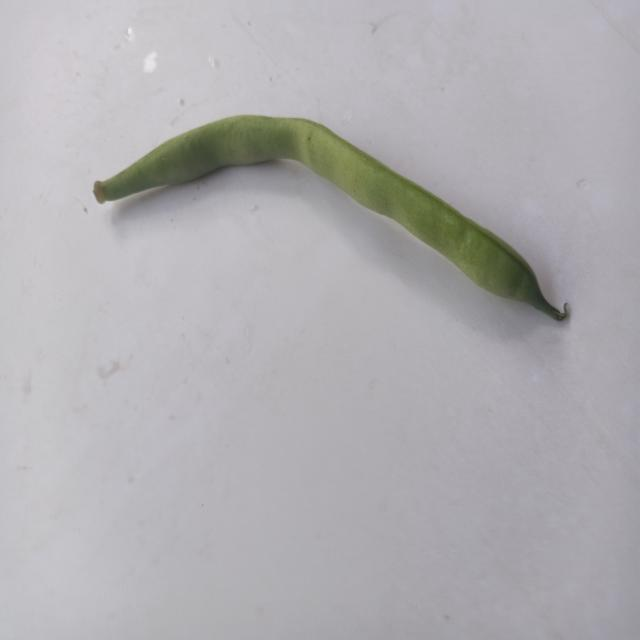Beans: (71, 96, 586, 334)
